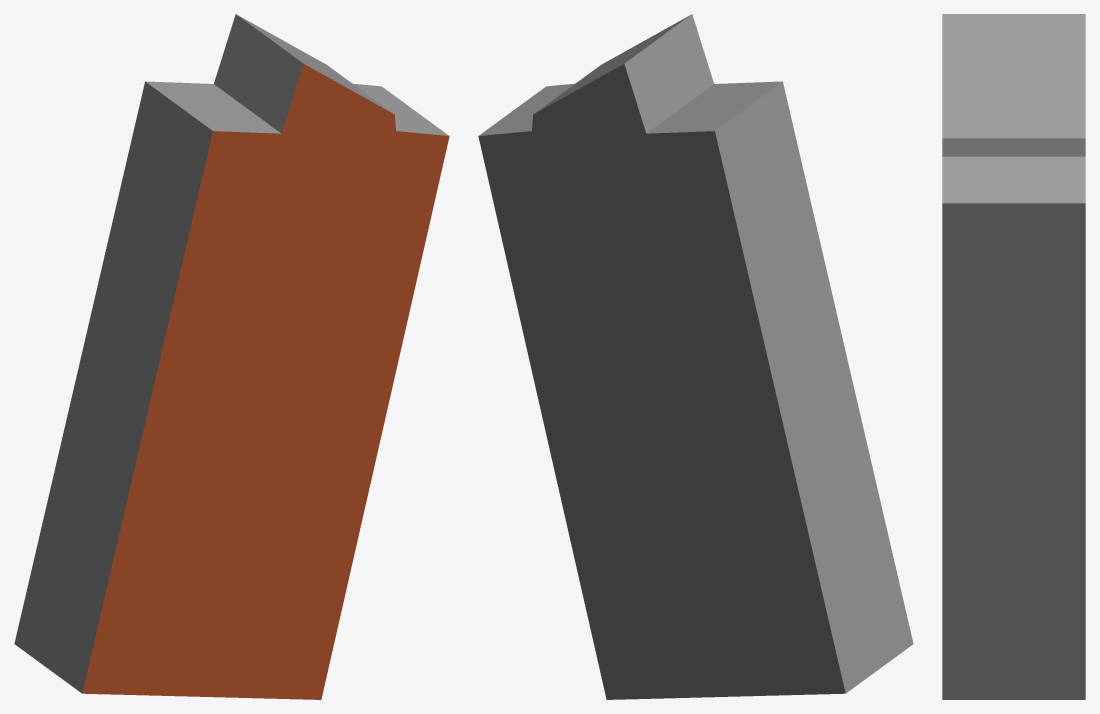
File: construction_3242_assumed_A_Casa_h6m.obj
3 renders of one model, left to right at view 1: azimuth 30°, elevation 25°; view 2: azimuth 150°, elevation 25°; view 3: azimuth 270°, elevation 25°, orthographic. The views are drawn at different scales.
Parts seen in each view (by area): view 1: construction_3242_assumed_A_Casa; view 2: construction_3242_assumed_A_Casa; view 3: construction_3242_assumed_A_Casa.
Part boxes in pixels (x1,y1,x2,y2): construction_3242_assumed_A_Casa: (14,14,449,699); construction_3242_assumed_A_Casa: (478,14,913,699); construction_3242_assumed_A_Casa: (942,14,1085,699).
Bounding box in the file's own units: 18.75 × 31.24 × 6.
